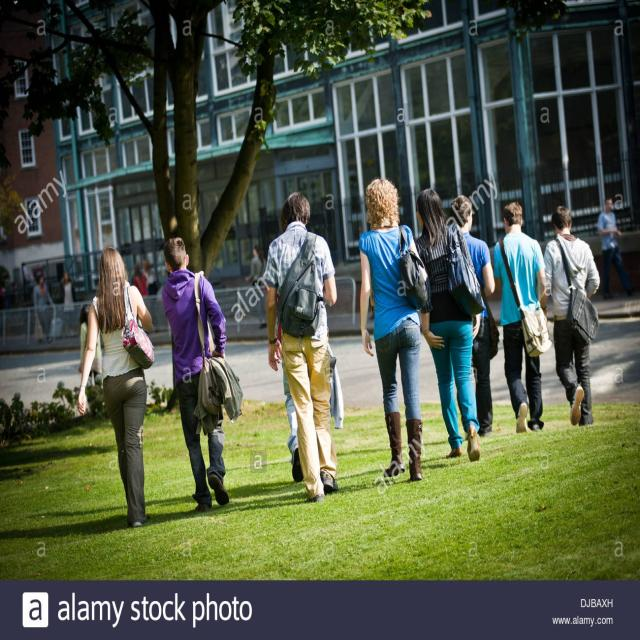body: (262, 190, 347, 507), (157, 234, 244, 513), (355, 172, 432, 482), (75, 245, 156, 529), (411, 185, 486, 464), (492, 199, 553, 435), (542, 204, 602, 428), (449, 194, 502, 439), (274, 210, 305, 484), (596, 195, 629, 300), (32, 272, 64, 346), (78, 303, 102, 386), (59, 269, 80, 339), (244, 244, 266, 287), (9, 280, 25, 339), (144, 263, 161, 296), (132, 263, 148, 297), (0, 284, 7, 316)
